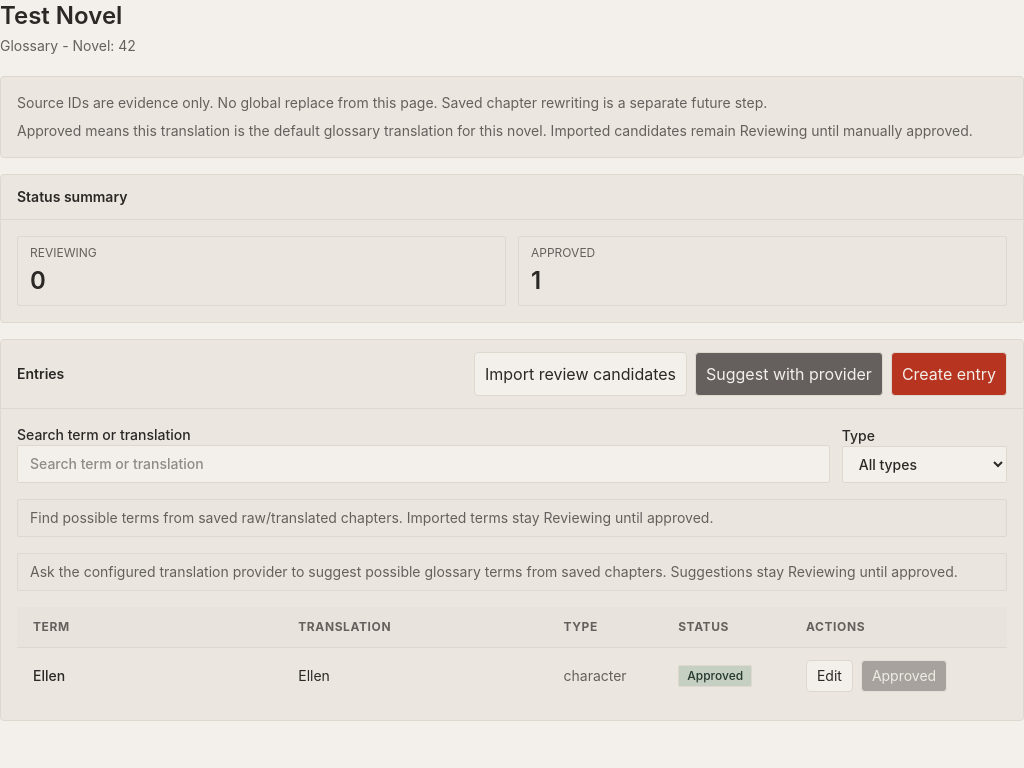
Test case: AdminGlossaryShell › applies previewed candidates and refreshes glossary entries as Reviewing
The image size is (1024, 768).
Expected: the text "Ellen" is shown, [33, 667, 65, 684]
Click the button "Import review candidates" at (580, 374), box [474, 352, 687, 396]
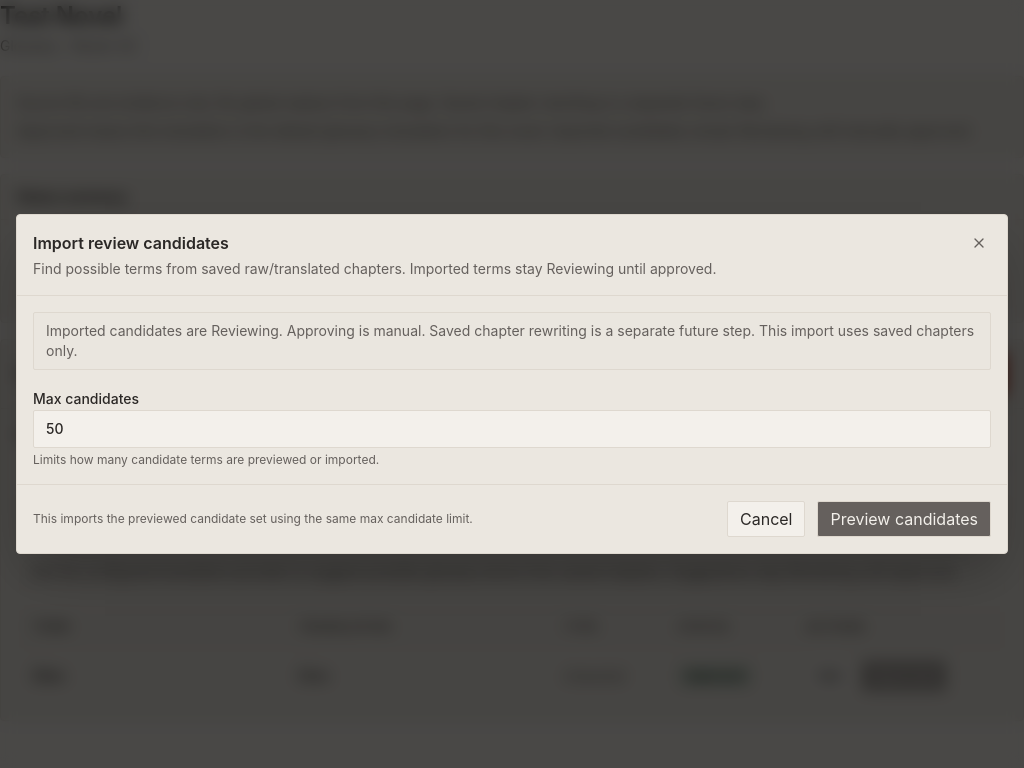
Click the button "Preview candidates" at (904, 519), box [818, 501, 991, 537]
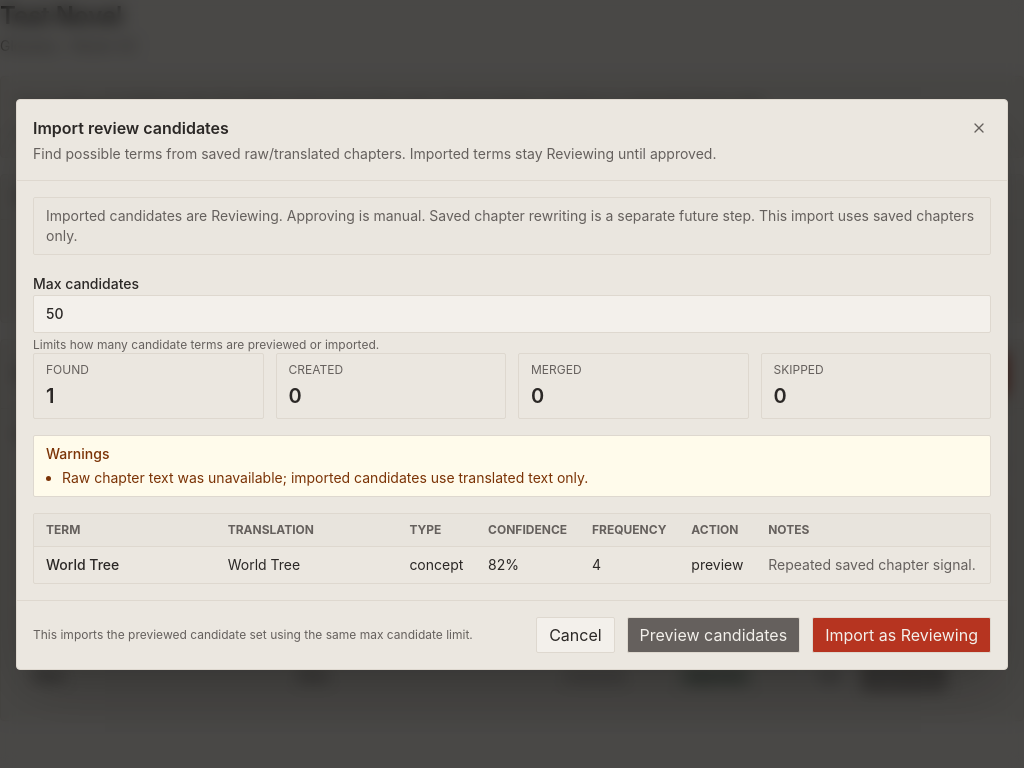
Click the button "Import as Reviewing" at (902, 634), box [812, 616, 991, 652]
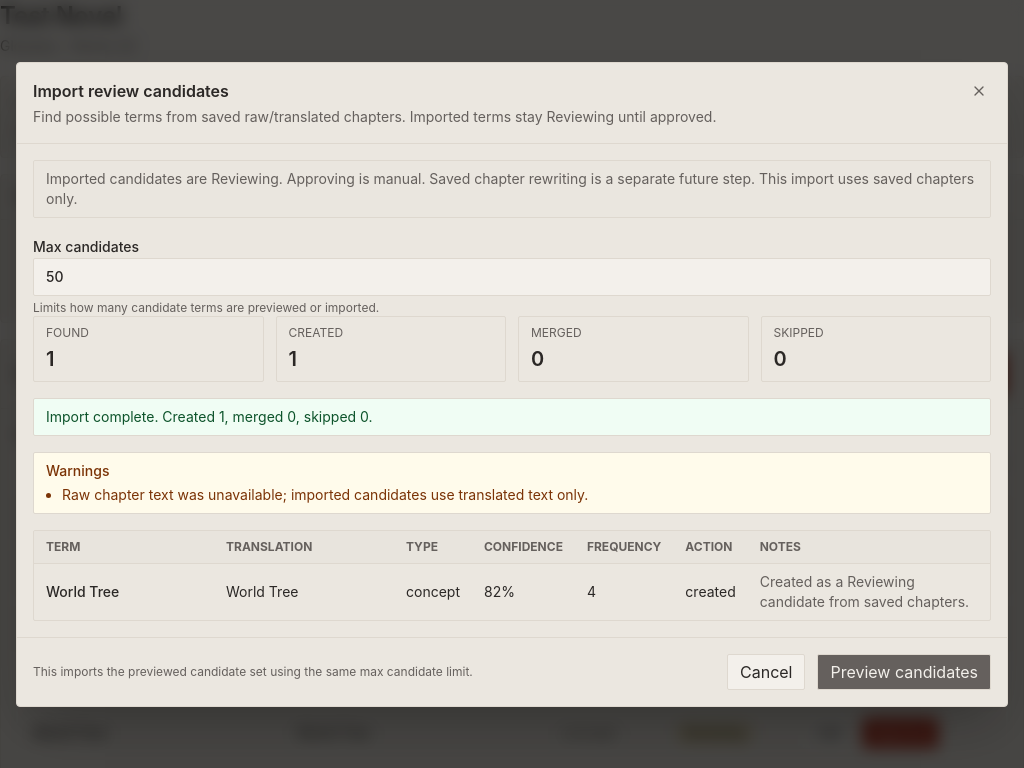
Expected: the text "Reviewing" is shown, [30, 245, 97, 260]
Now the text "Import complete. Created 1, merged 0, skipped 0." is shown, box [33, 398, 991, 436]
